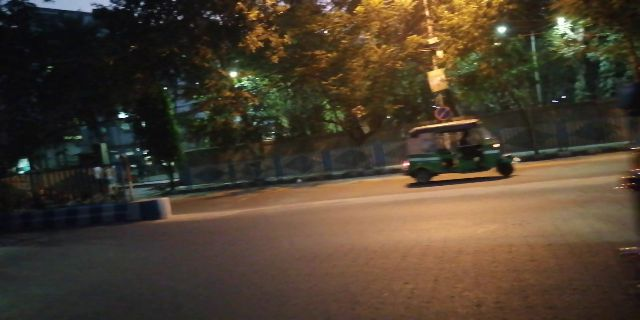Autorickshaw: (402, 118, 527, 182)
